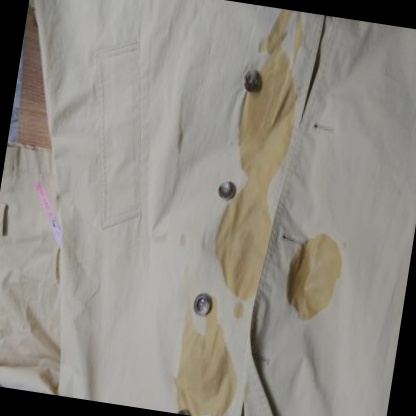coffee: (211, 198, 274, 293), (250, 77, 297, 174), (177, 340, 234, 413), (285, 240, 341, 313)
